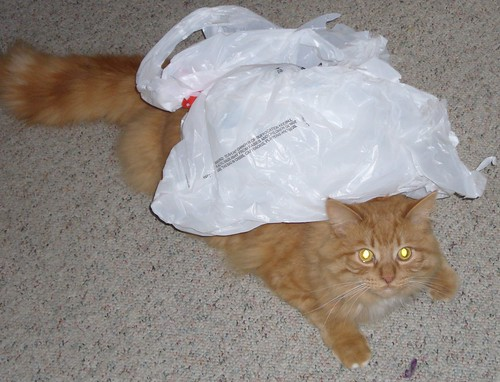plastic bag: (136, 4, 498, 237)
